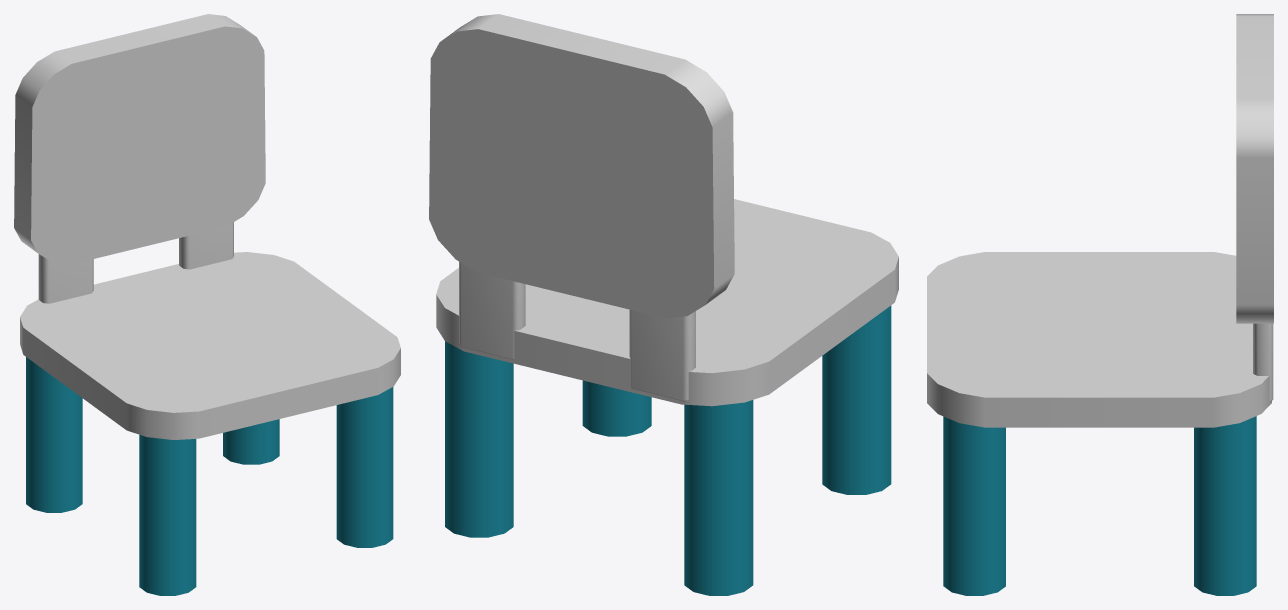
Rendered from RegularChairGeo.fbx.
The picture shows the model from 3 angles, left to right: view 1: azimuth 30°, elevation 25°; view 2: azimuth 150°, elevation 25°; view 3: azimuth 270°, elevation 25°; orthographic projection. The views are drawn at different scales.
Parts seen in each view (by area): view 1: RegularChairGeo; view 2: RegularChairGeo; view 3: RegularChairGeo.
Boxes of the visible parts, bbox=[...] form: RegularChairGeo: bbox=[14, 14, 400, 595]; RegularChairGeo: bbox=[429, 14, 898, 595]; RegularChairGeo: bbox=[927, 14, 1273, 595].
Size of the model in its own units: 170 by 257 by 171.
